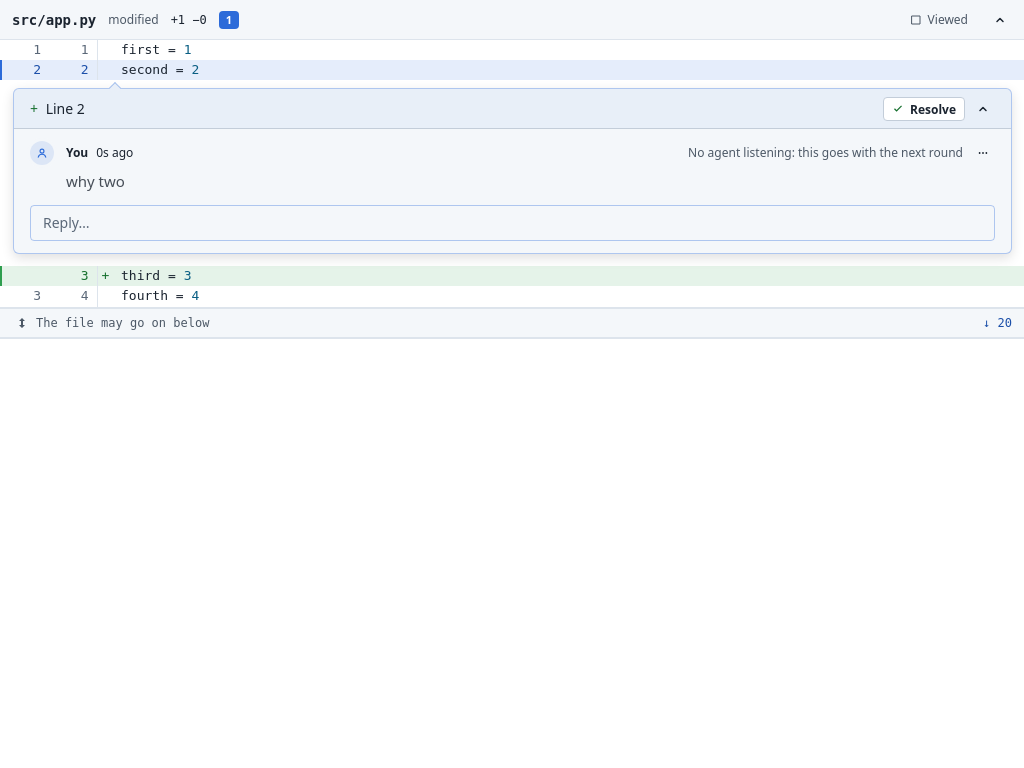
a reply or an edit being written in a thread › says at the start of its acts what its keys do: add a reply, save an edit
Click the button with test id "open-reply".
click(66, 223)  # box [30,205,995,241]
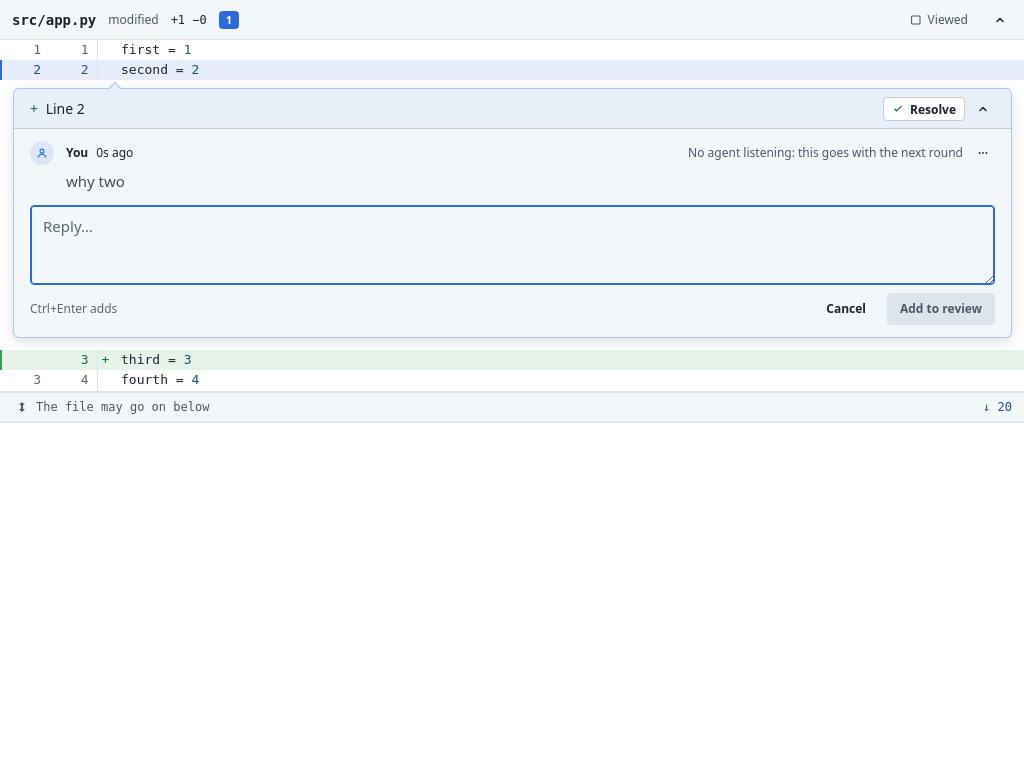
Click the button with test id "cancel-comment".
click(846, 309)  # box [813,293,879,325]
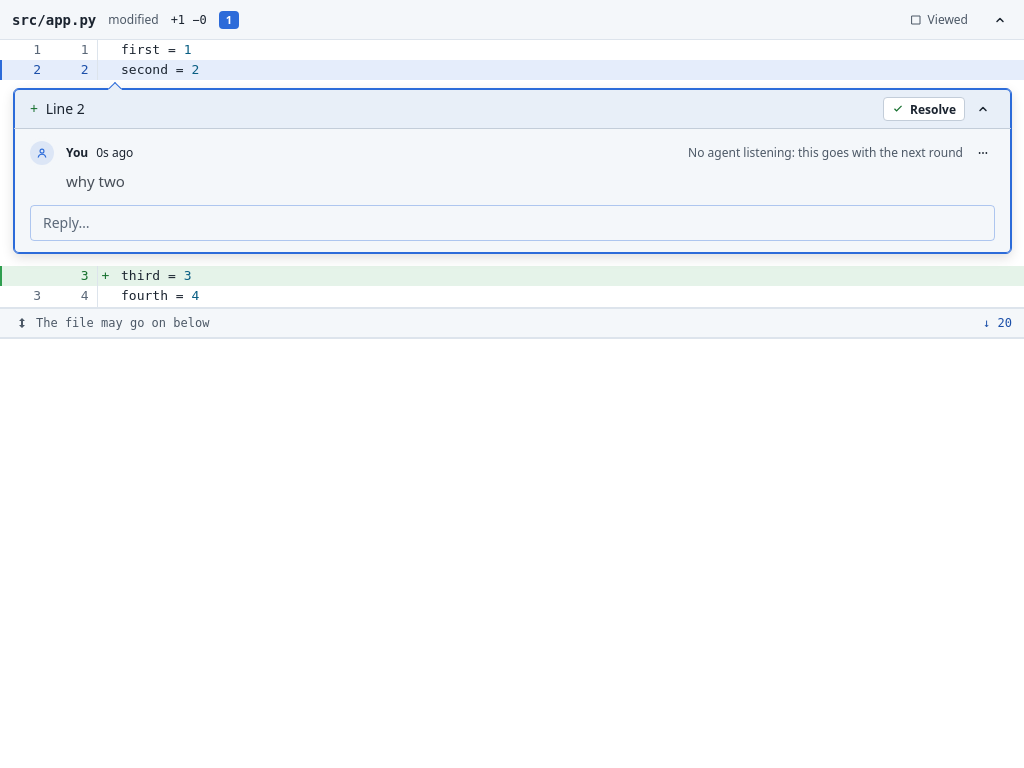
Click the button with test id "turn-menu".
click(983, 153)  # box [971,141,995,165]
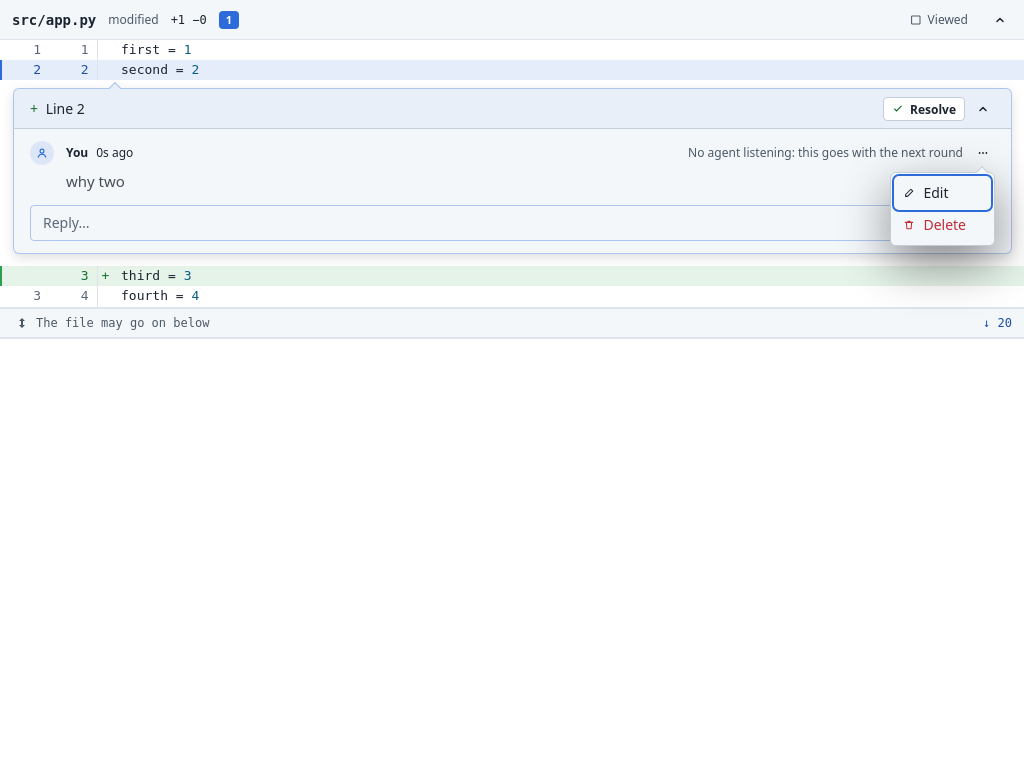
Click the button with test id "edit-turn".
click(943, 193)  # box [895,177,990,209]
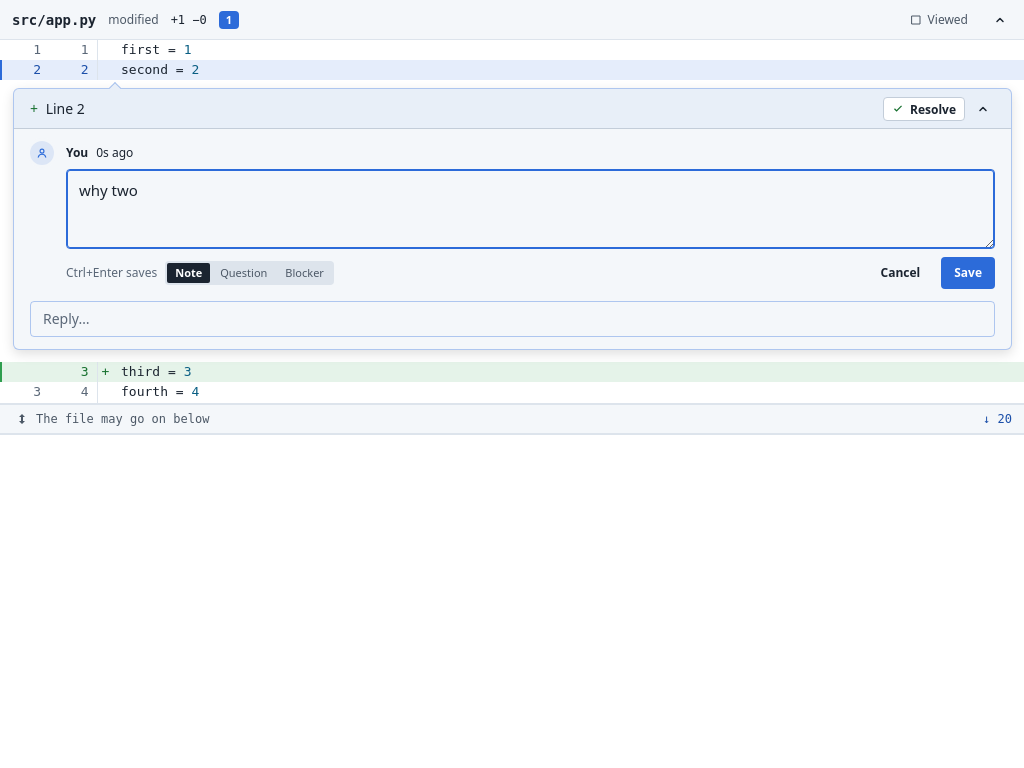
Expected: the button with test id "save-comment" reads "Save", [941,257,995,289]
